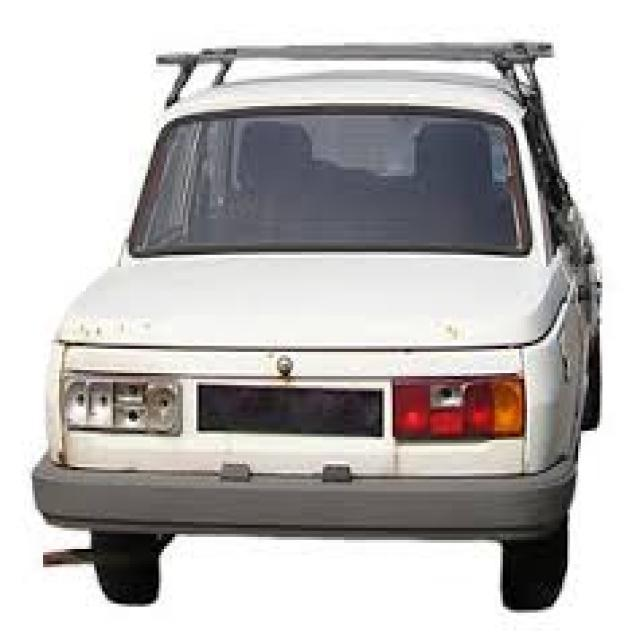damaged-tail-light: (62, 370, 185, 432)
